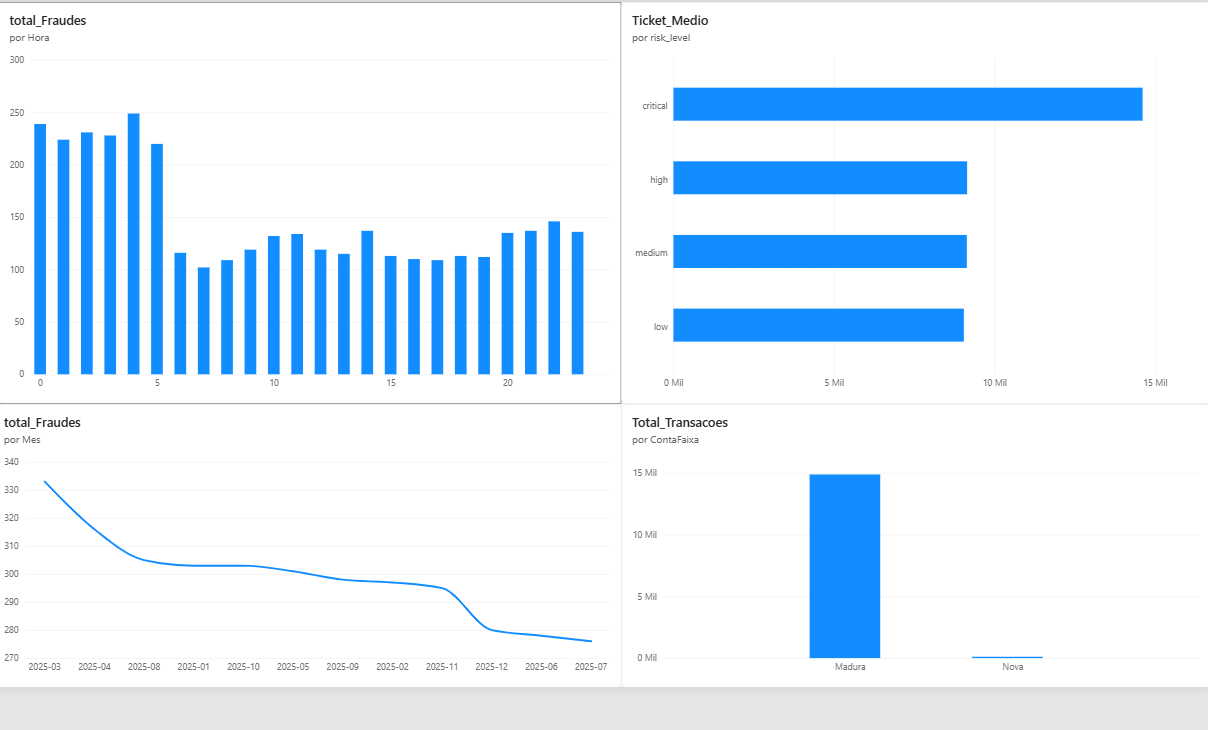

The dashboard page shown, as its layout file describes it:
{"tool":"powerbi","page":{"name":"Comportamento Temporal","canvas":[1920,1080],"ordinal":3},"visuals":[{"type":"columnChart","fields":{"Category":["final_transactions_for_bi.Hora"],"Y":["final_transactions_for_bi.total_Fraudes"]},"box":[9.1,0,981.7,633.1],"z":0},{"type":"lineChart","fields":{"Category":["final_transactions_for_bi.Mes"],"Y":["final_transactions_for_bi.total_Fraudes"]},"box":[0,633.1,990.8,447],"z":1},{"type":"clusteredBarChart","fields":{"Category":["final_transactions_for_bi.risk_level"],"Y":["final_transactions_for_bi.Ticket_Medio"]},"box":[990.8,0,928.7,633.1],"z":2},{"type":"columnChart","fields":{"Category":["final_transactions_for_bi.ContaFaixa"],"Y":["final_transactions_for_bi.Total_Transacoes"]},"box":[990.8,633.1,928.7,447],"z":3}]}

Visuals, with their boxes on the page's 1920x1080 design canvas (x1, y1, x2, y2). These are canvas units, not pixel positions in the 1208x730 screenshot, which may show the page scaled, cropped or inside an application window:
columnChart - final_transactions_for_bi.Hora x final_transactions_for_bi.total_Fraudes: {"x1": 9, "y1": 0, "x2": 991, "y2": 633}
lineChart - final_transactions_for_bi.Mes x final_transactions_for_bi.total_Fraudes: {"x1": 0, "y1": 633, "x2": 991, "y2": 1080}
clusteredBarChart - final_transactions_for_bi.risk_level x final_transactions_for_bi.Ticket_Medio: {"x1": 991, "y1": 0, "x2": 1920, "y2": 633}
columnChart - final_transactions_for_bi.ContaFaixa x final_transactions_for_bi.Total_Transacoes: {"x1": 991, "y1": 633, "x2": 1920, "y2": 1080}
